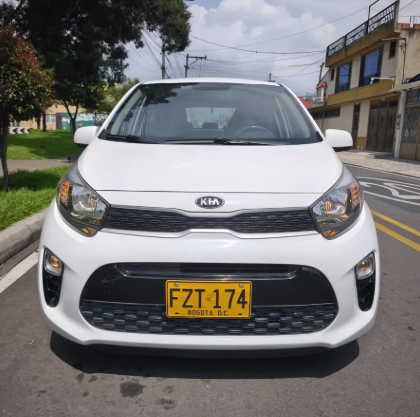placa: (165, 280, 252, 320)
